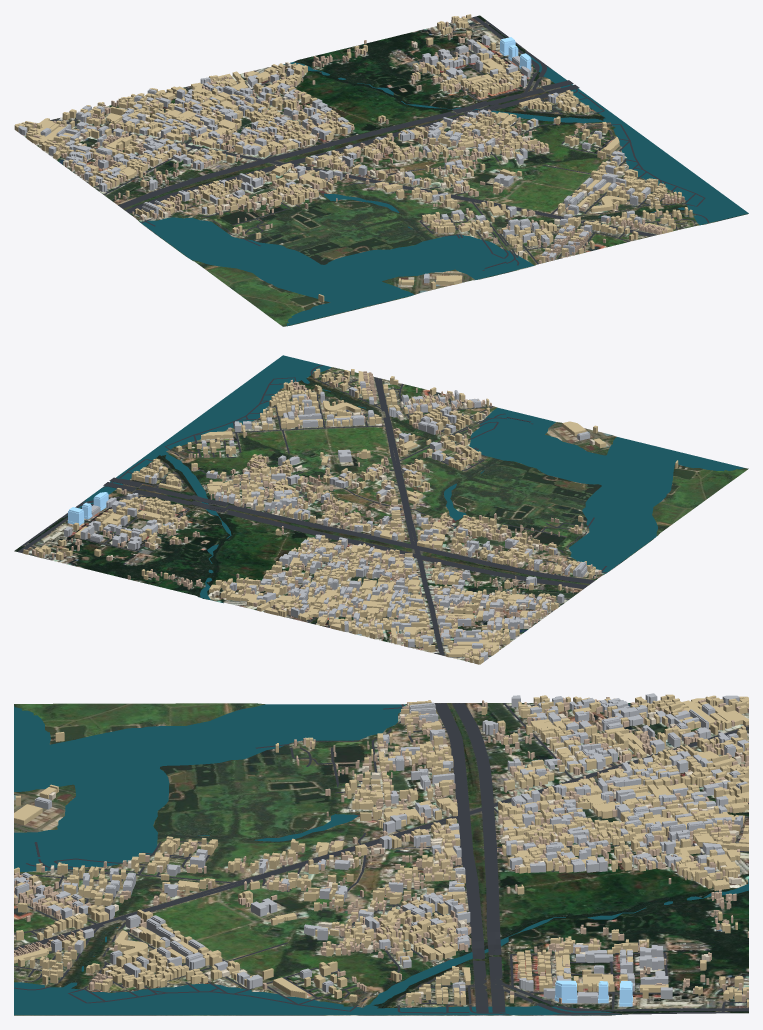
3 views of the same model, one above another, from view 1: azimuth 30°, elevation 25°; view 2: azimuth 150°, elevation 25°; view 3: azimuth 270°, elevation 25° (orthographic). The views are drawn at different scales.
Visible parts, largest first — view 1: TERRAIN_65x65, BLDG_05_SHOPHOUSE, WATER_SAIGON_RIVER, BLDG_07_APARTMENT, BLDG_04_TUBE_HOUSE, ROAD_METRO_NETWORK, BLDG_06_VILLA; view 2: TERRAIN_65x65, BLDG_05_SHOPHOUSE, WATER_SAIGON_RIVER, BLDG_07_APARTMENT, ROAD_METRO_NETWORK, BLDG_04_TUBE_HOUSE, BLDG_06_VILLA, BLDG_08_MODERN_TOWER; view 3: TERRAIN_65x65, BLDG_05_SHOPHOUSE, WATER_SAIGON_RIVER, BLDG_07_APARTMENT, ROAD_METRO_NETWORK, BLDG_04_TUBE_HOUSE, BLDG_06_VILLA, BLDG_08_MODERN_TOWER.
Part boxes in pixels (bbox=[...]): TERRAIN_65x65: bbox=[22, 15, 748, 326]; BLDG_05_SHOPHOUSE: bbox=[14, 14, 692, 302]; WATER_SAIGON_RIVER: bbox=[140, 54, 748, 326]; BLDG_07_APARTMENT: bbox=[18, 35, 650, 283]; BLDG_04_TUBE_HOUSE: bbox=[30, 16, 684, 263]; ROAD_METRO_NETWORK: bbox=[25, 16, 709, 270]; BLDG_06_VILLA: bbox=[63, 42, 658, 281]; TERRAIN_65x65: bbox=[14, 367, 748, 664]; BLDG_05_SHOPHOUSE: bbox=[23, 368, 678, 664]; WATER_SAIGON_RIVER: bbox=[67, 355, 745, 603]; BLDG_07_APARTMENT: bbox=[64, 381, 590, 661]; ROAD_METRO_NETWORK: bbox=[17, 365, 606, 657]; BLDG_04_TUBE_HOUSE: bbox=[32, 371, 601, 661]; BLDG_06_VILLA: bbox=[107, 390, 599, 644]; BLDG_08_MODERN_TOWER: bbox=[67, 492, 108, 525]; TERRAIN_65x65: bbox=[14, 703, 748, 1015]; BLDG_05_SHOPHOUSE: bbox=[14, 694, 748, 1007]; WATER_SAIGON_RIVER: bbox=[14, 704, 748, 1014]; BLDG_07_APARTMENT: bbox=[14, 693, 748, 1003]; ROAD_METRO_NETWORK: bbox=[14, 703, 748, 1014]; BLDG_04_TUBE_HOUSE: bbox=[14, 697, 748, 1004]; BLDG_06_VILLA: bbox=[33, 698, 742, 997]; BLDG_08_MODERN_TOWER: bbox=[554, 980, 632, 1006].
Bounding box in the file's own units: 2000 × 59.25 × 2000.
Materials: 8 (1 with a texture image).
